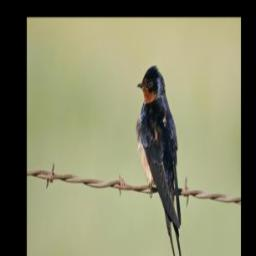Swallow: (136, 62, 187, 256)
